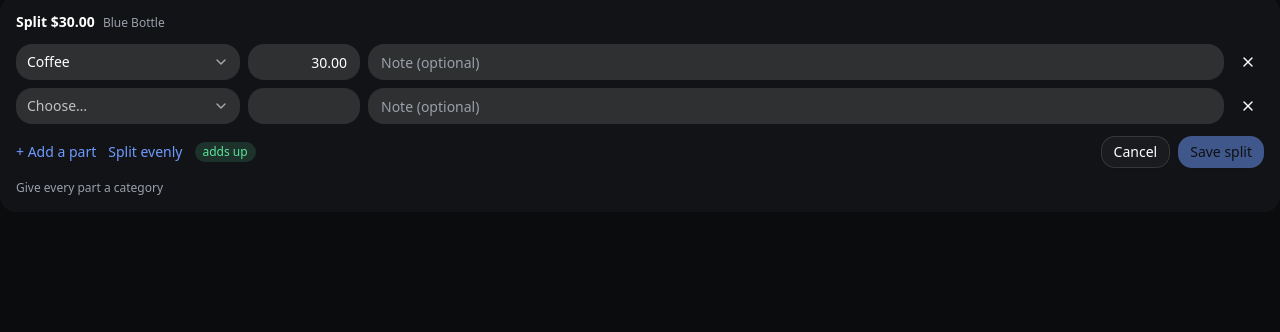
it: SplitEditor › waits to save until they add up to the cent, and says so
Click the dropdown named "Category of part 2" at [128, 106], box [16,88,240,124]
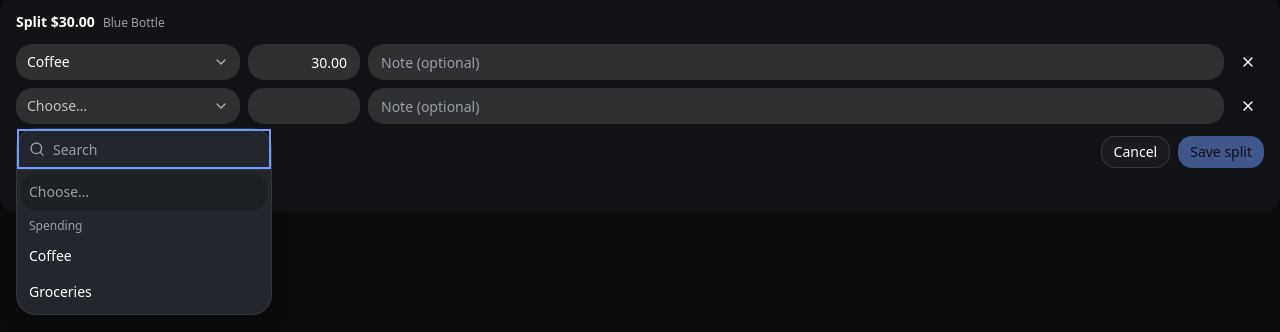
Click the option "Groceries" at [60, 292], box [29,282,92,301]
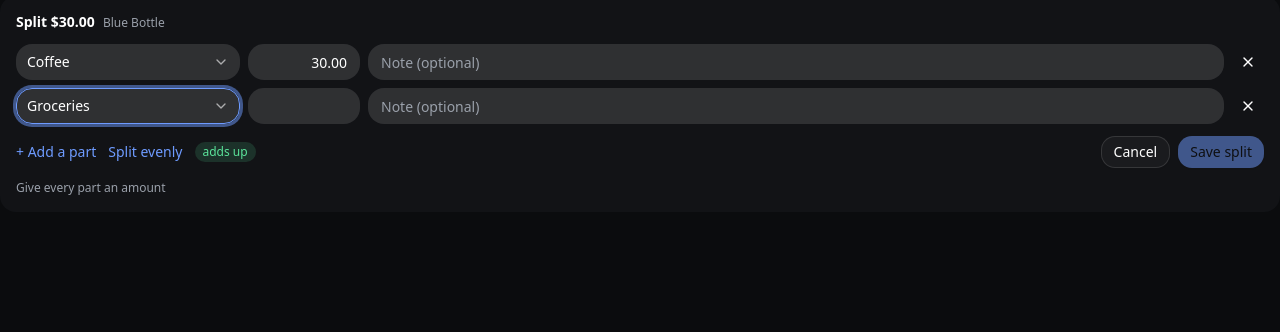
Replace the text in the field named "Amount of part 1" with "20" at [304, 62], box [248,44,360,80]
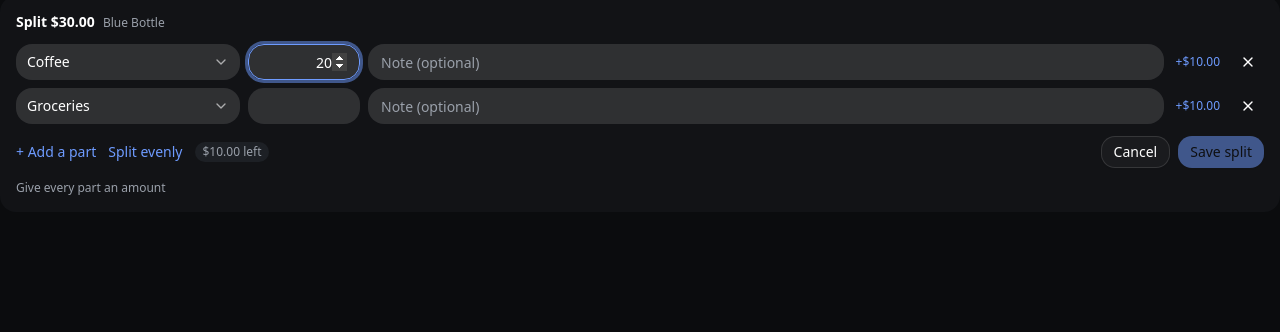
Type "9.99" into the field named "Amount of part 2" at [304, 106], box [248,88,360,124]
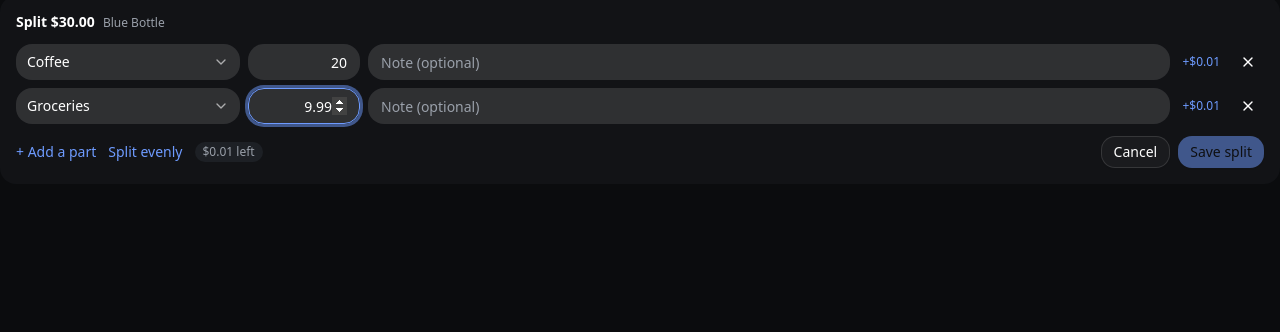
Expected: the button "Save split" is disabled, [1178,136,1264,168]
Replace the text in the number field named "Amount of part 2" with "10" at [304, 106], box [248,88,360,124]
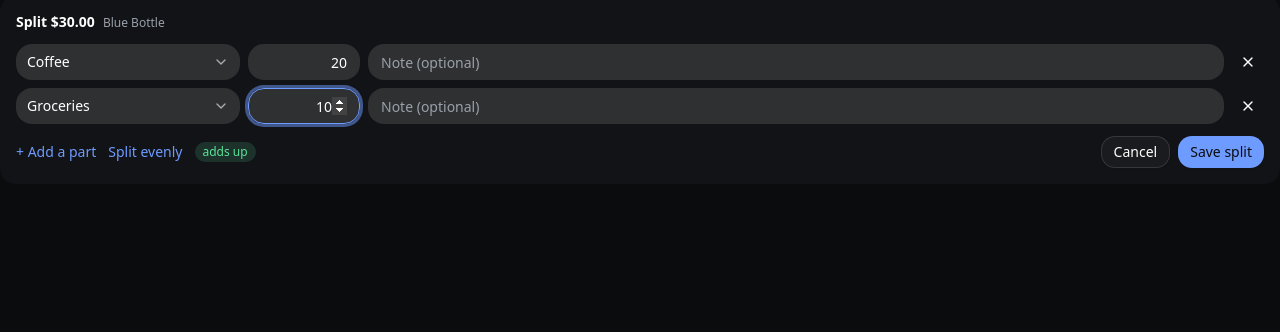
Result: the button "Save split" is enabled at [1178,136,1264,168]
